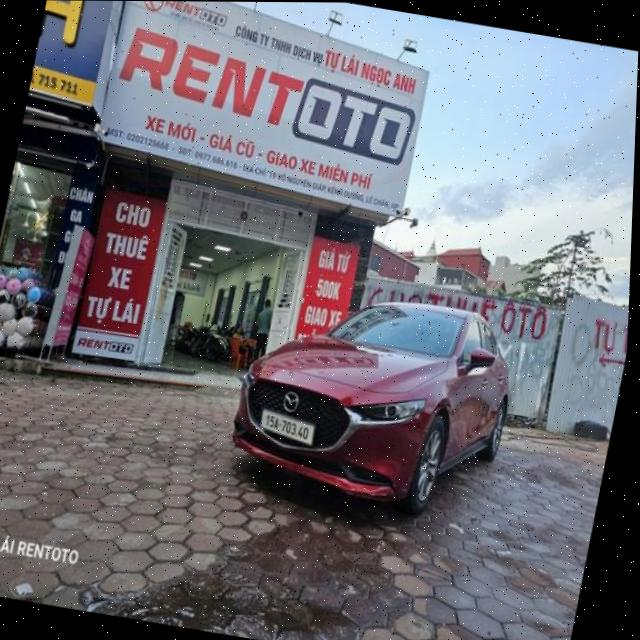car: (213, 275, 535, 530)
plate: (255, 405, 320, 447)
